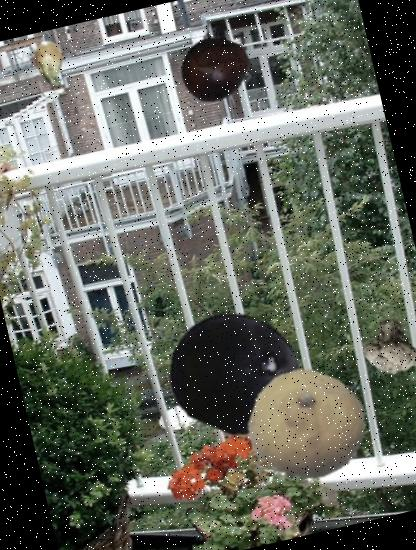Cactus: (21, 35, 82, 96)
Cauliflower: (355, 312, 416, 380)
Chestnut: (174, 30, 254, 110)
Grape: (156, 294, 314, 452)
Lemon: (235, 354, 378, 497)
